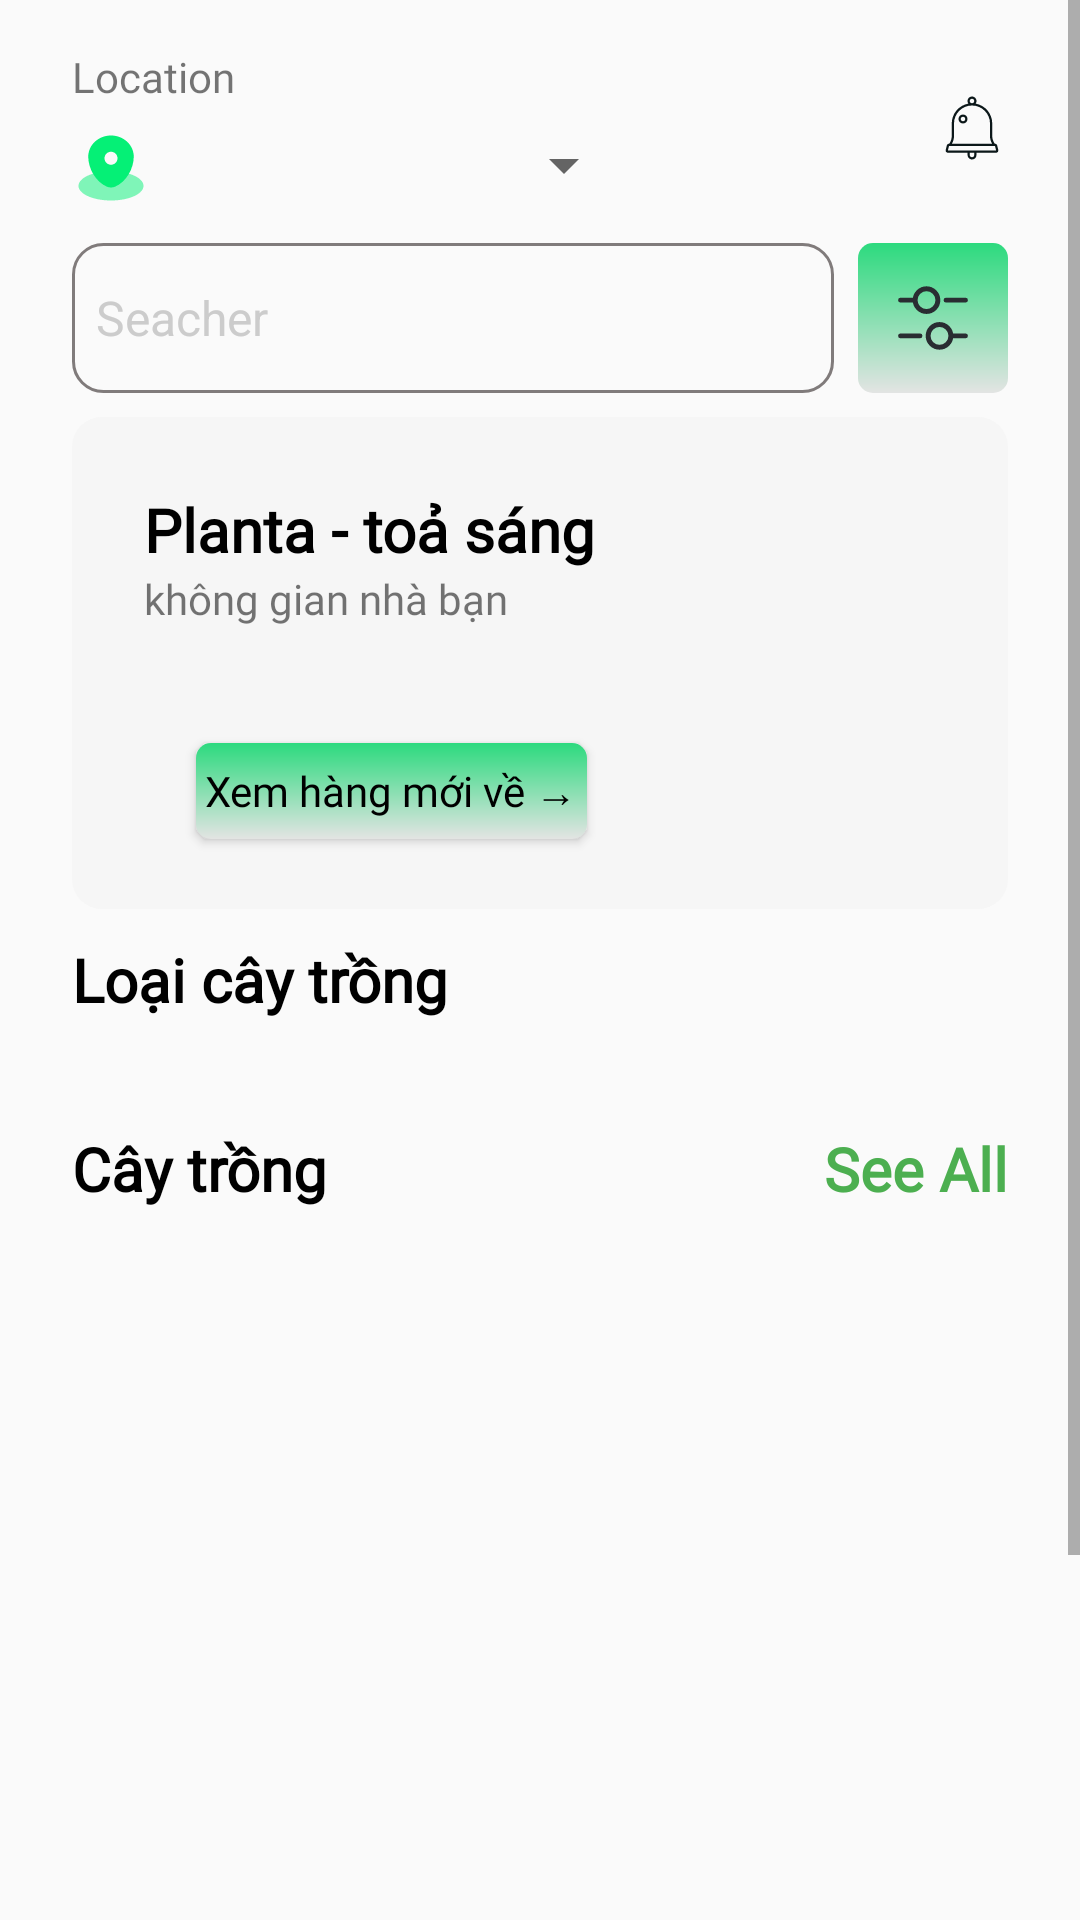

Icon click points for this 1080 x 1920 phone screenshot, format point (x, y):
map: point (111, 168)
ring: point (972, 128)
setting: point (933, 318)
